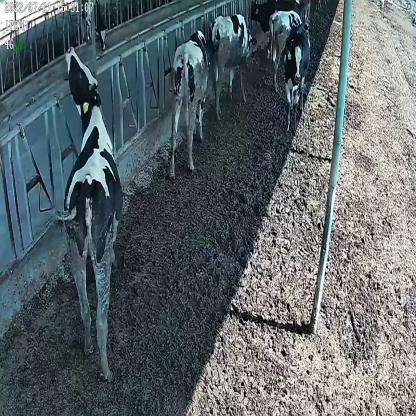cow: (55, 42, 124, 380), (166, 27, 210, 180), (210, 12, 258, 113), (282, 22, 312, 127), (267, 8, 304, 90)
